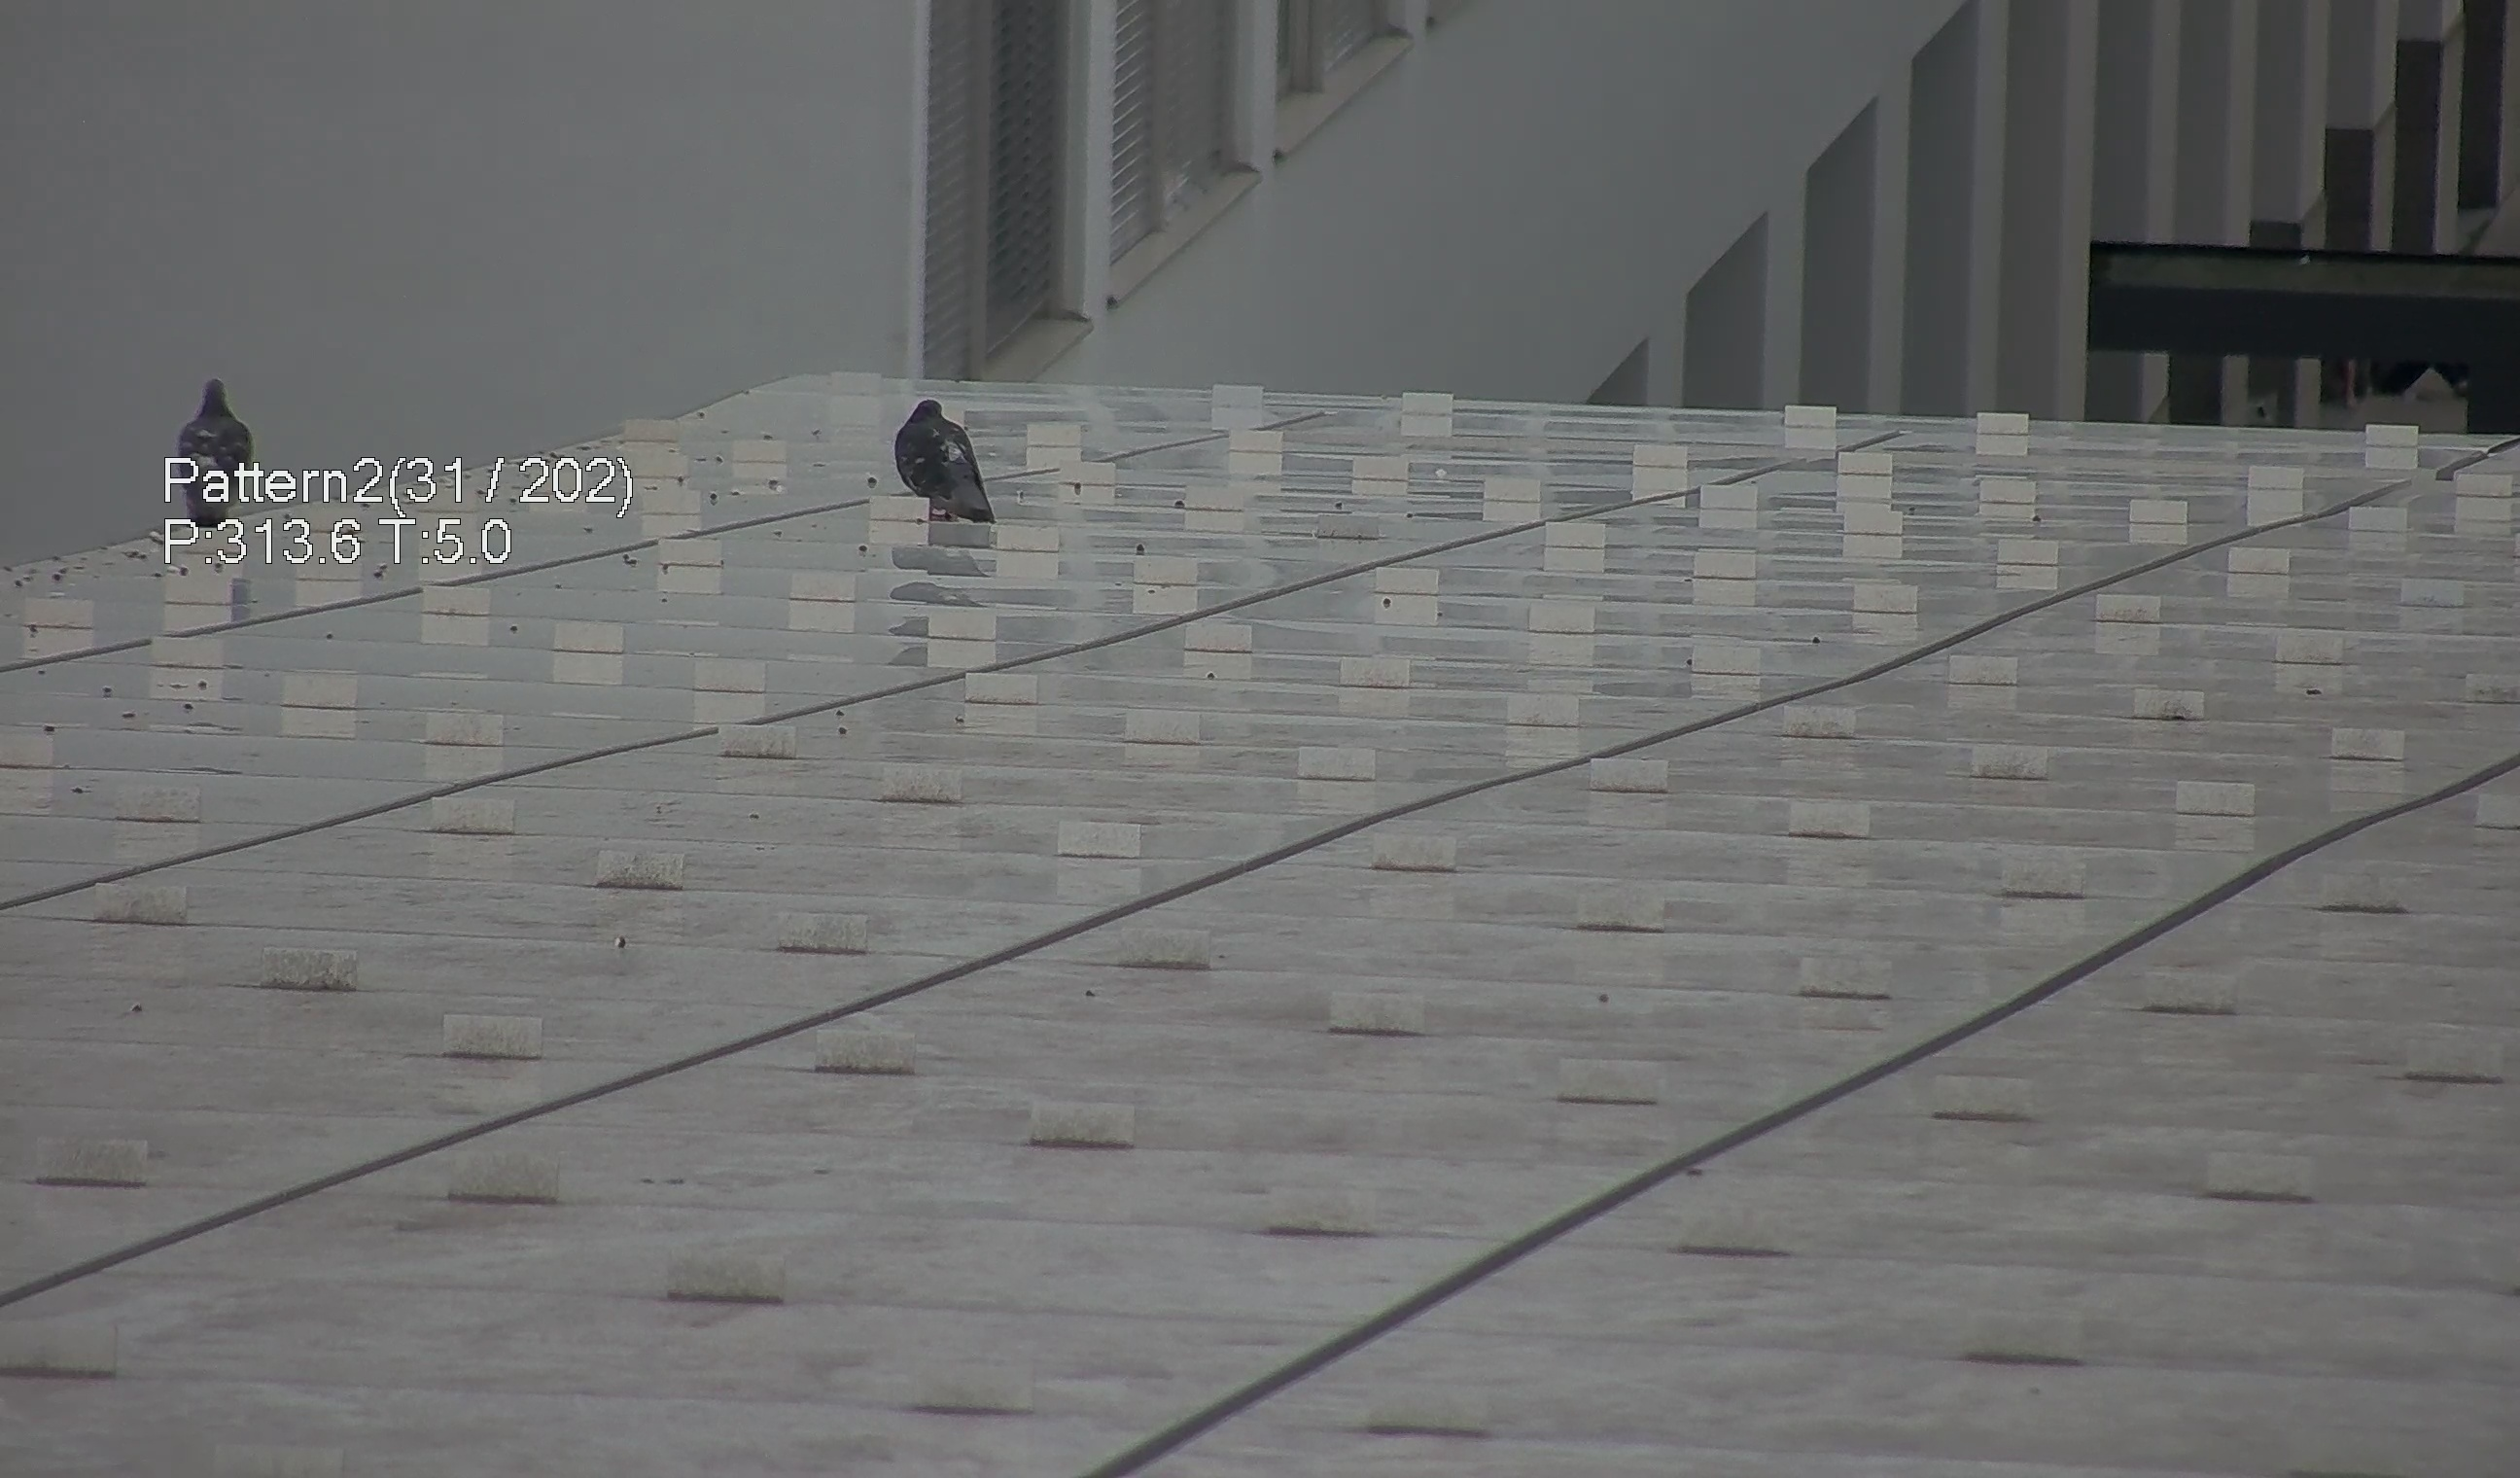Pigeon: (167, 368, 283, 577), (885, 384, 999, 533)
